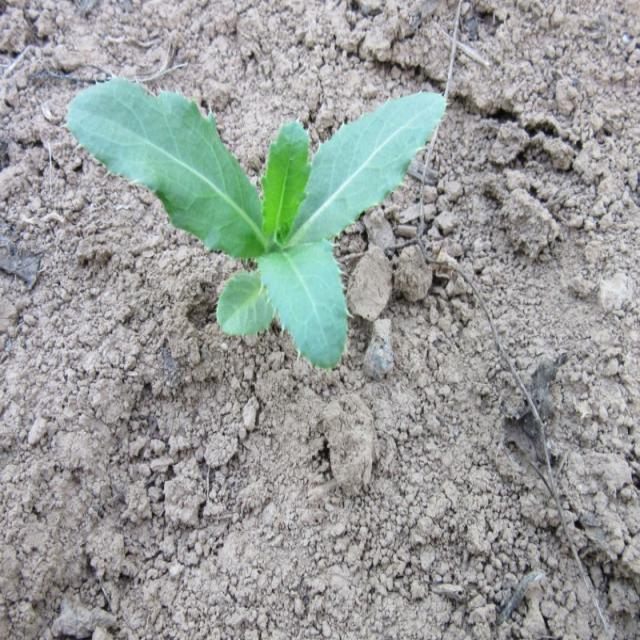cs: (62, 79, 450, 373)
